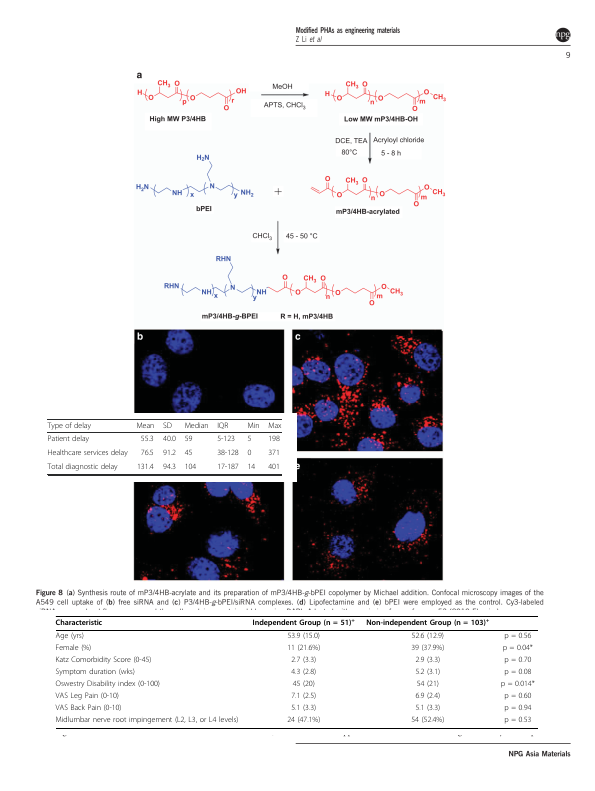borderless: (54, 615, 538, 728), (46, 418, 281, 474)
cell: (55, 716, 239, 725), (365, 617, 490, 628), (252, 617, 356, 628), (55, 680, 161, 690), (55, 656, 152, 666), (47, 449, 129, 459), (55, 668, 136, 678), (47, 463, 119, 473), (55, 704, 122, 713), (55, 692, 120, 701), (55, 619, 103, 628), (47, 435, 90, 445), (47, 422, 92, 431), (55, 644, 92, 654), (500, 680, 536, 690), (286, 632, 321, 642), (286, 644, 321, 654), (410, 644, 445, 654), (411, 632, 445, 642), (502, 644, 534, 654), (286, 716, 321, 725), (410, 716, 445, 725), (55, 632, 85, 642), (503, 632, 532, 642), (503, 656, 532, 666), (503, 668, 532, 678), (290, 656, 317, 666), (414, 656, 441, 666), (290, 668, 317, 678), (414, 668, 441, 678), (503, 692, 532, 701), (503, 704, 532, 713), (503, 716, 532, 725), (290, 692, 317, 701), (414, 692, 441, 701), (290, 704, 317, 713), (414, 704, 441, 713), (216, 449, 240, 459), (216, 463, 240, 473), (292, 680, 316, 690), (416, 680, 440, 690), (184, 422, 209, 431), (216, 435, 236, 445), (136, 463, 155, 473), (135, 422, 155, 431), (140, 435, 155, 445), (162, 435, 177, 445), (140, 449, 155, 459), (162, 449, 177, 459), (162, 463, 177, 473), (267, 435, 281, 445), (267, 449, 281, 459), (267, 463, 281, 473), (267, 422, 282, 431), (184, 463, 197, 473), (246, 422, 260, 431), (216, 422, 229, 431), (246, 463, 256, 473), (162, 422, 173, 431), (184, 435, 193, 445), (184, 449, 193, 459), (246, 435, 252, 445), (246, 449, 252, 459)
